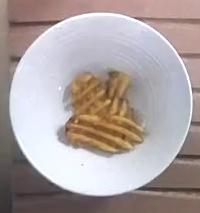fries: (65, 70, 143, 152)
